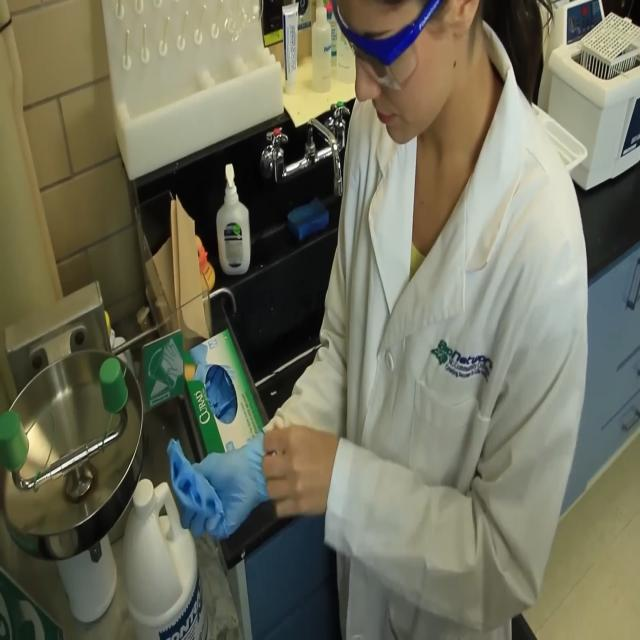labcoat: (260, 10, 592, 640)
